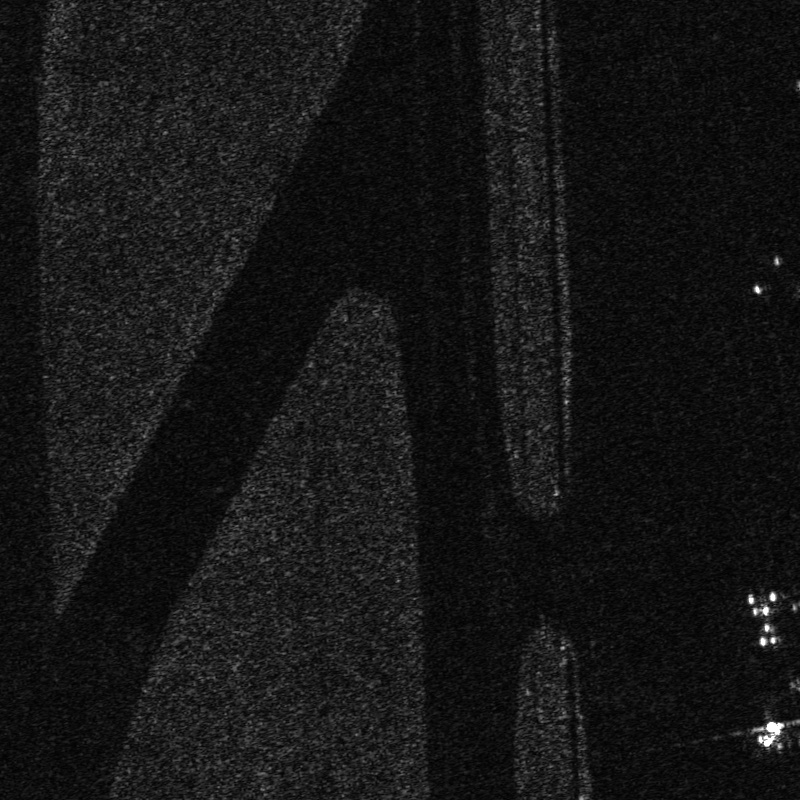ARJ21: (738, 703, 799, 757)
other: (732, 584, 799, 652)
